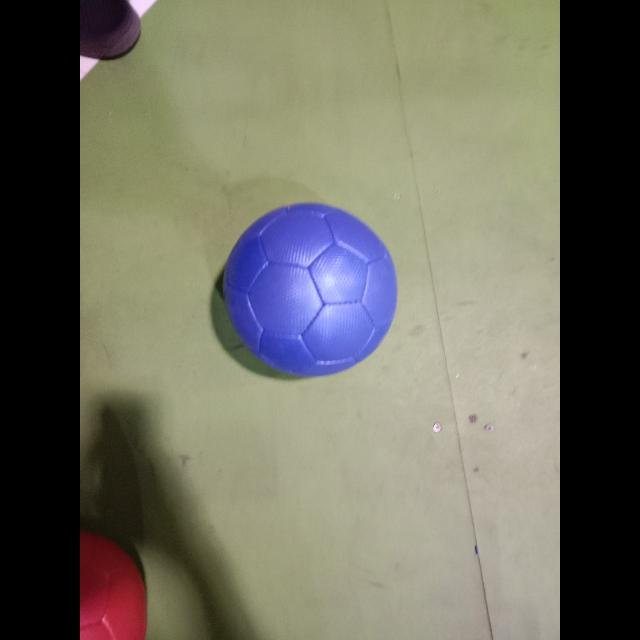B: (222, 203, 396, 377)
R: (80, 530, 146, 640)
